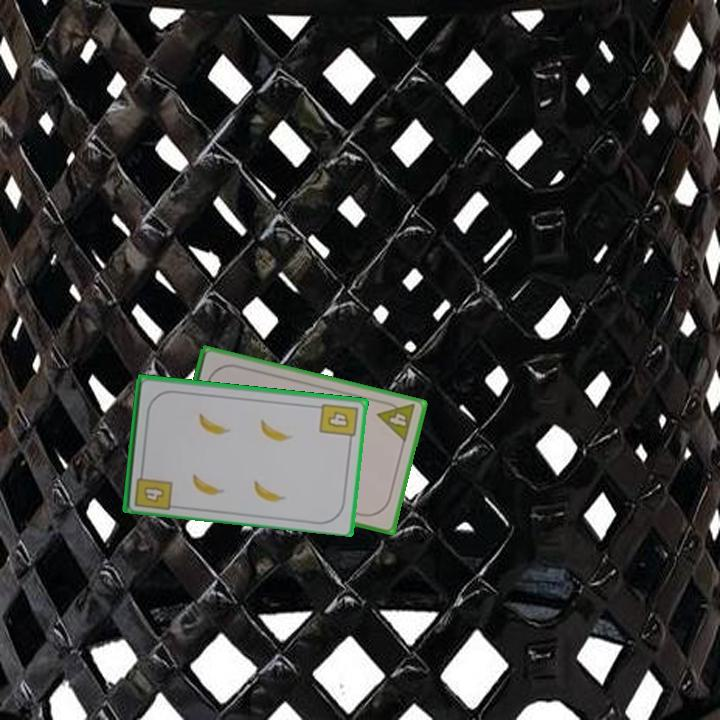4b: (131, 465, 175, 512), (316, 400, 360, 445)
4p: (374, 396, 418, 445)
